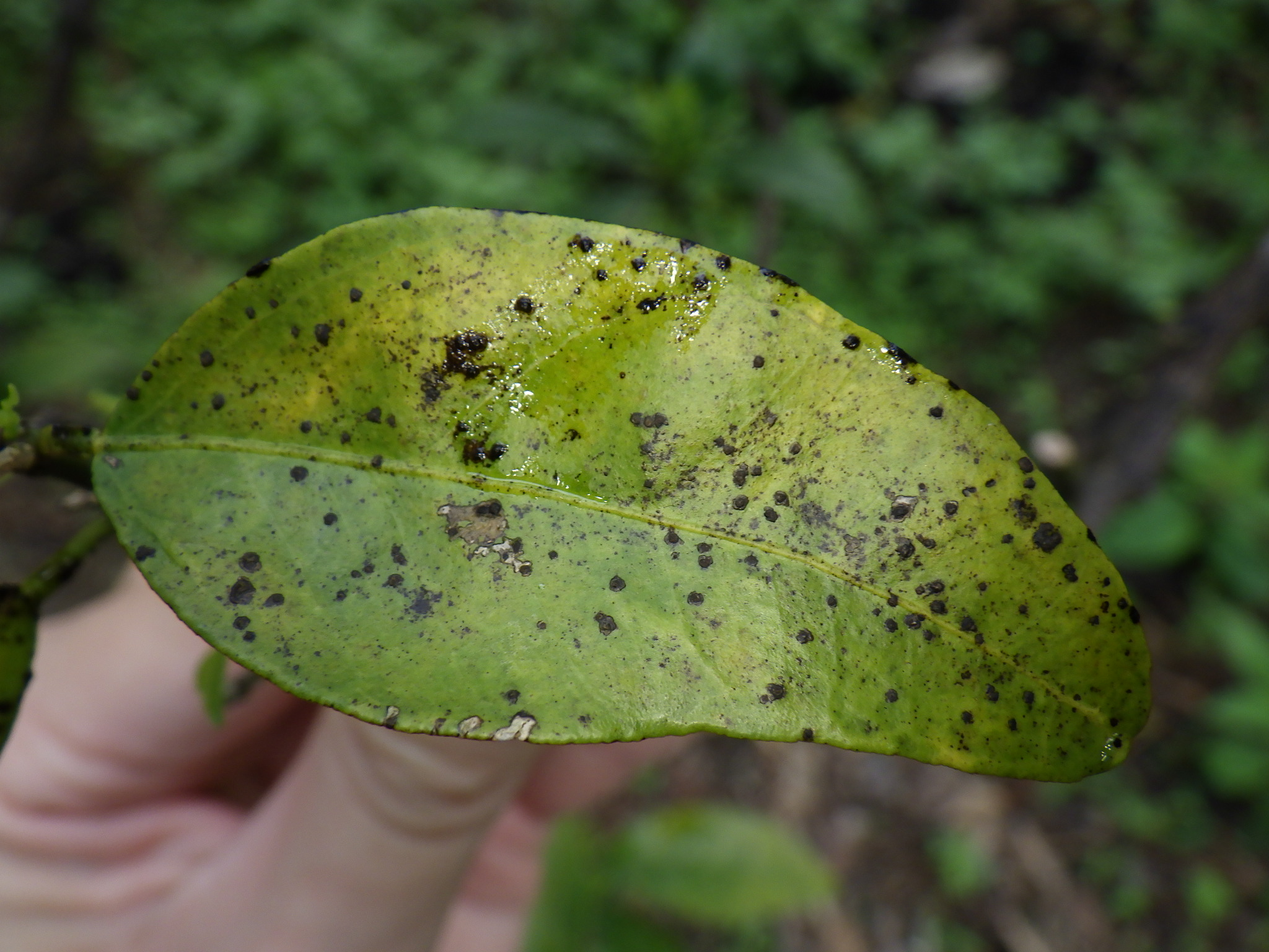Oily_Spot: (76, 208, 1148, 781)
